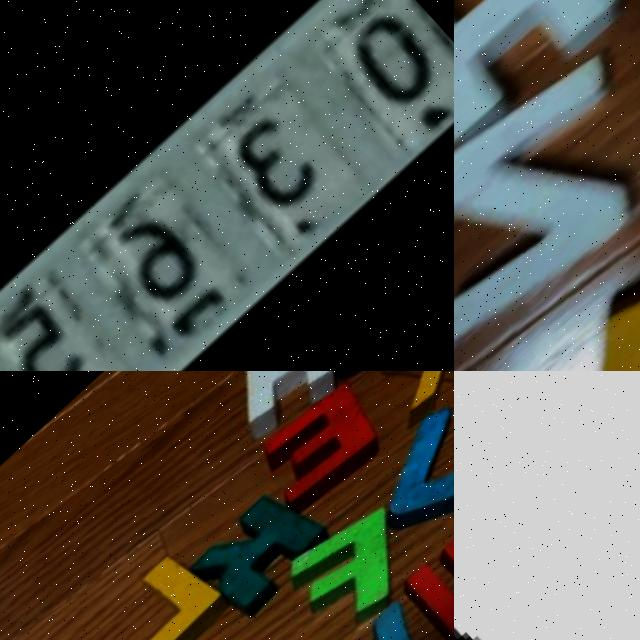0: (327, 0, 454, 128)
1: (454, 371, 640, 640)
3: (218, 103, 342, 221)
5: (0, 283, 114, 371)
6: (95, 193, 228, 320)
E: (244, 379, 390, 516)
F: (276, 497, 432, 640)
H: (454, 0, 640, 171), (207, 371, 363, 447)
J: (348, 398, 454, 557)
K: (182, 482, 340, 630)
L: (483, 267, 640, 371), (85, 542, 243, 640)
V: (301, 596, 454, 640)
W: (399, 496, 454, 640)
X: (369, 371, 454, 426)
Z: (454, 48, 640, 348)
